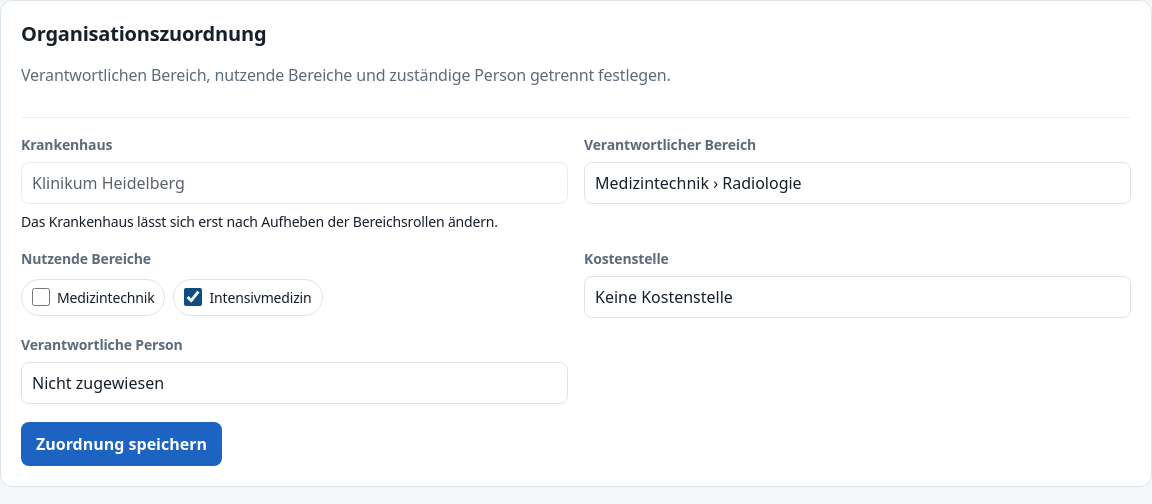
Scenario: Contract360 Organisationszuordnung › zeigt Verantwortlichen und nutzenden Bereich mit vollständigem Pfad und speichert beide Rollen
Expected: the dropdown labelled "Verantwortlicher Bereich" shows "Medizintechnik › Radiologie", [584,162,1131,204]
Expected: the checkbox labelled "Intensivmedizin" is checked, [184,288,202,306]
Select "4400 · Radiologie — Medizintechnik › Radiologie" in the dropdown labelled "Kostenstelle" at coordinates (858, 297), box [584,276,1131,318]
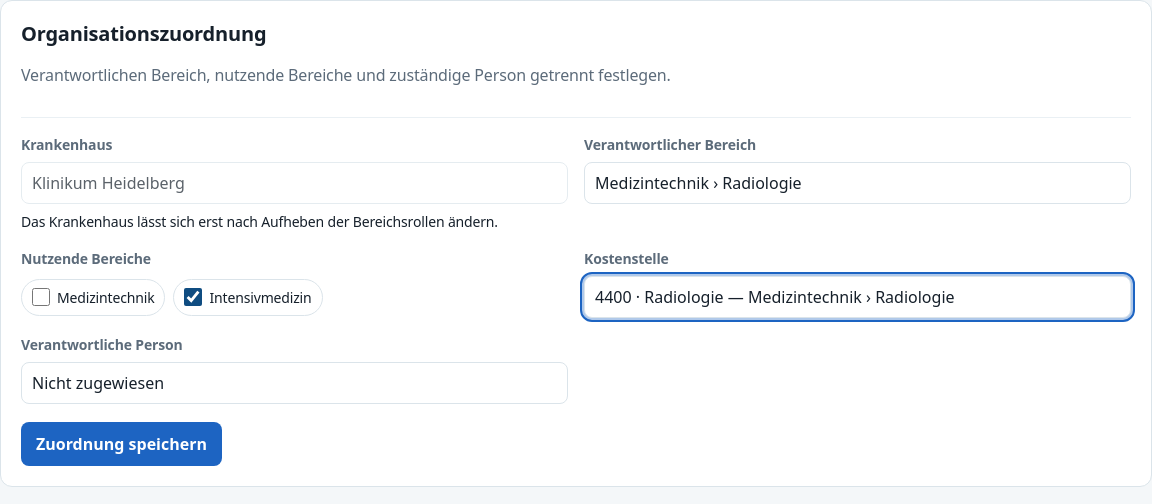
Click the button "Zuordnung speichern".
click(122, 444)  # box [21,422,222,466]
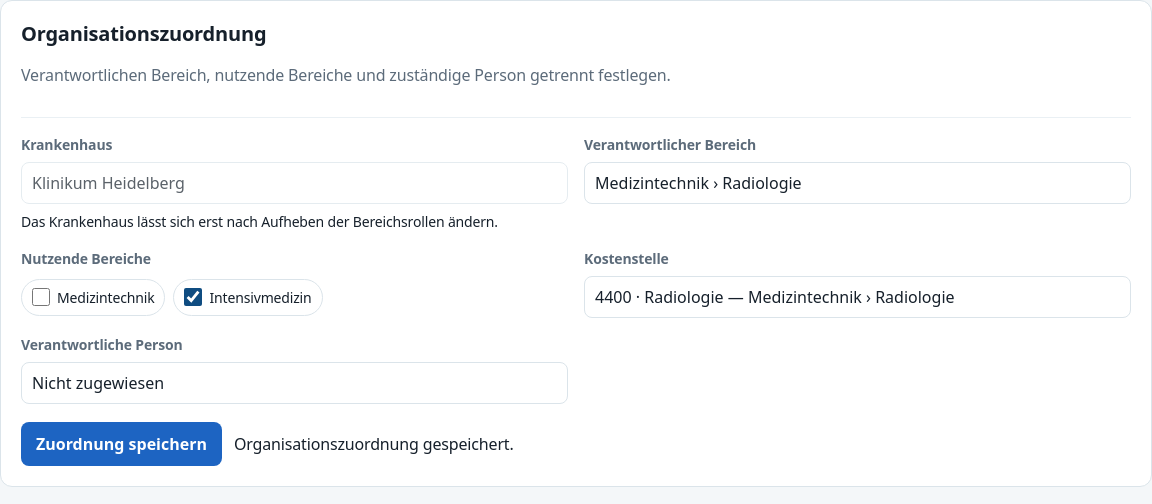
Now the message reads "Organisationszuordnung gespeichert.", box [234,433,514,455]
